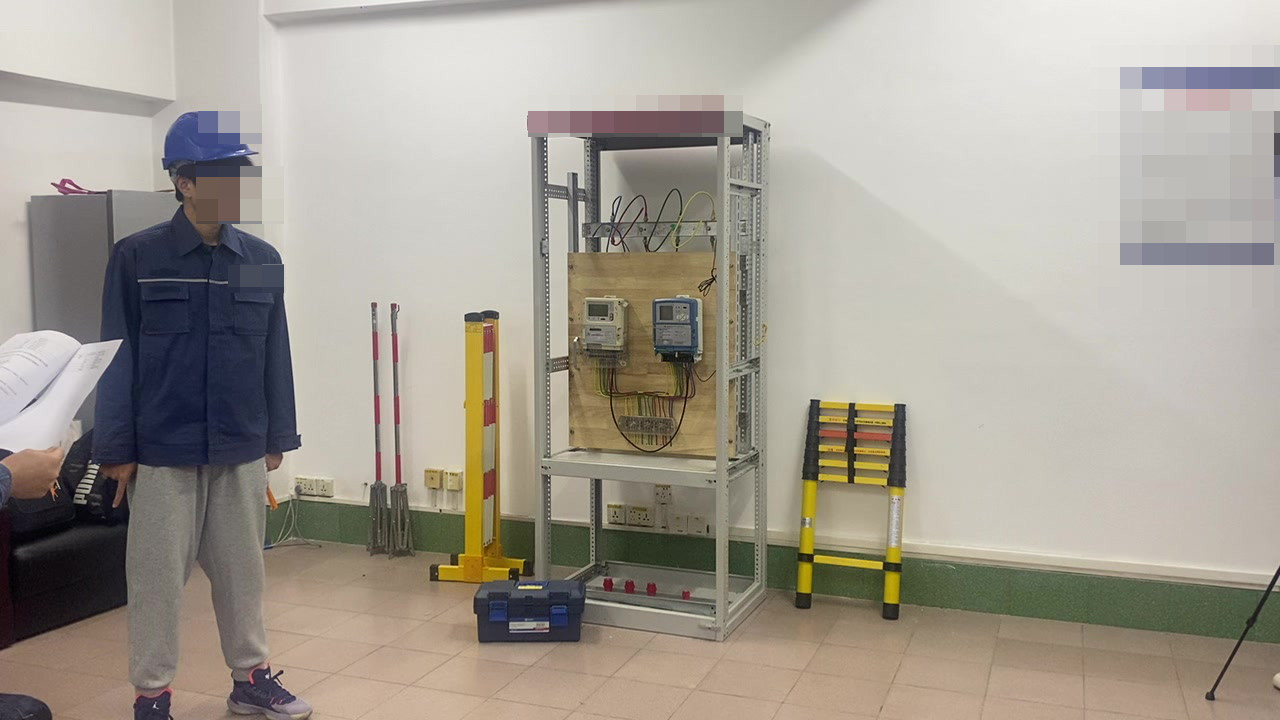downcloth: (118, 454, 277, 697)
halt: (161, 111, 258, 232)
hand: (9, 440, 62, 509), (96, 455, 133, 502)
noear: (172, 177, 203, 211)
person: (8, 108, 315, 709)
upsuit: (72, 221, 302, 471)
